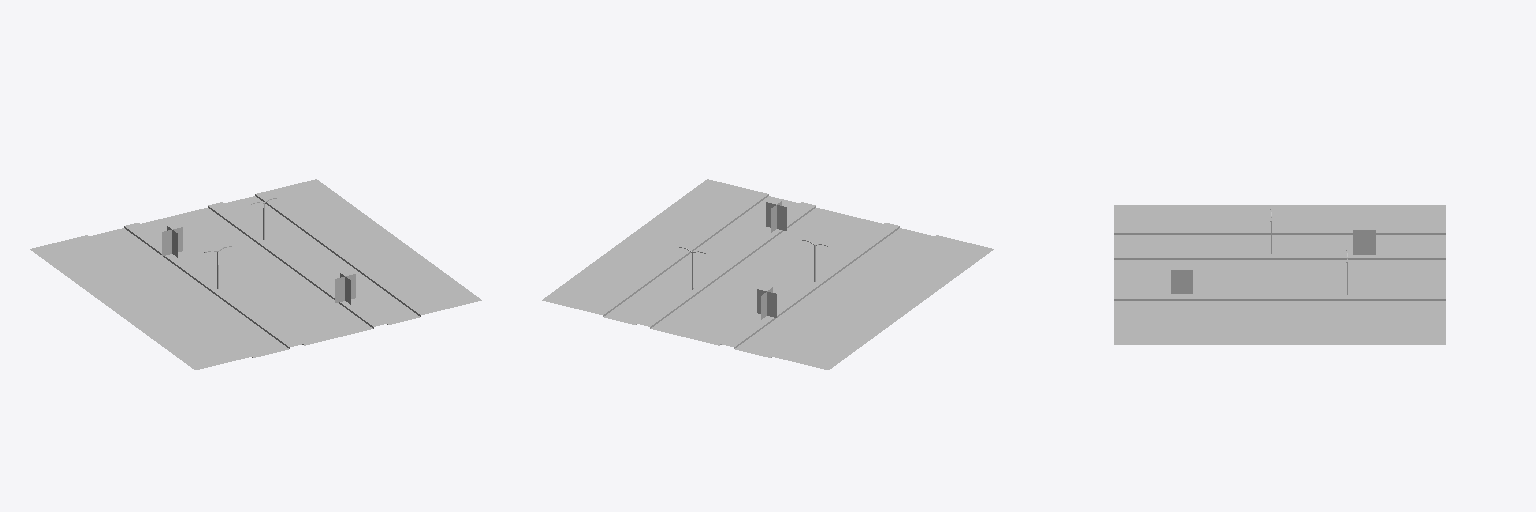
The model's file is 01_main.obj.
3 renders of one model, left to right at view 1: azimuth 30°, elevation 25°; view 2: azimuth 150°, elevation 25°; view 3: azimuth 270°, elevation 25°, orthographic.
Visible parts, largest first — view 1: 01_main_Grid; view 2: 01_main_Grid; view 3: 01_main_Grid.
Boxes of the visible parts, <box> form: 01_main_Grid: <box>30,179,481,369</box>; 01_main_Grid: <box>542,179,993,369</box>; 01_main_Grid: <box>1114,205,1445,344</box>.
Size of the model in its own units: 16 by 2.2 by 16.